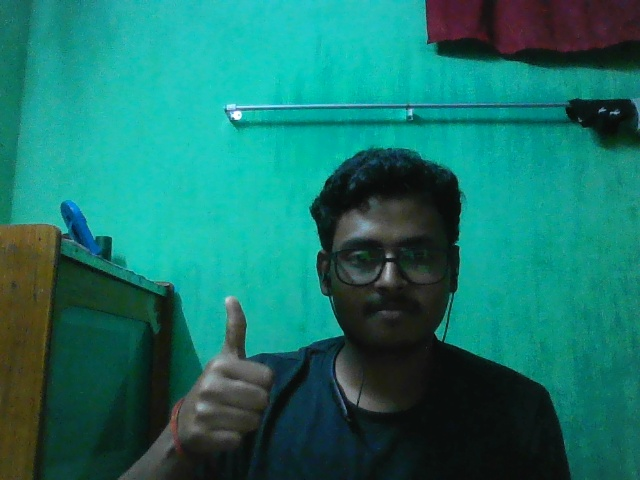ThumbsUp: (174, 290, 274, 460)
